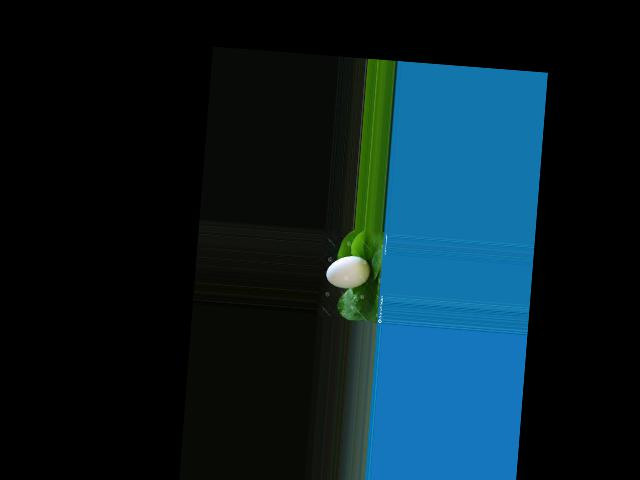egg: (325, 253, 371, 290)
